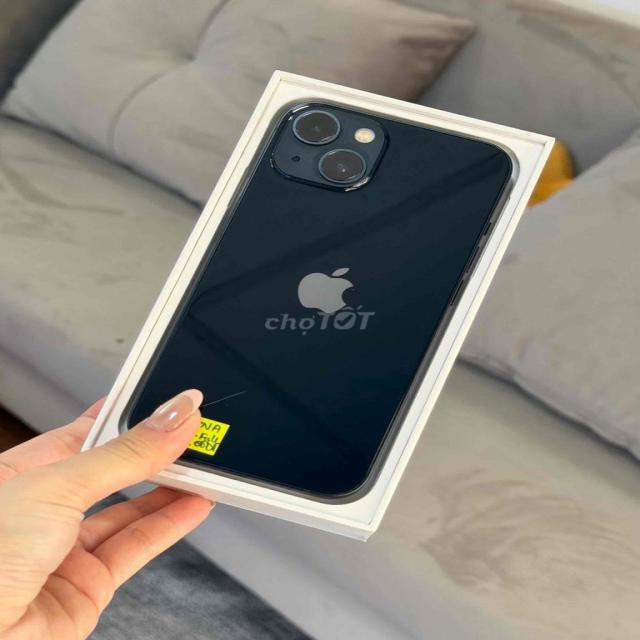scratch: (200, 389, 259, 416)
